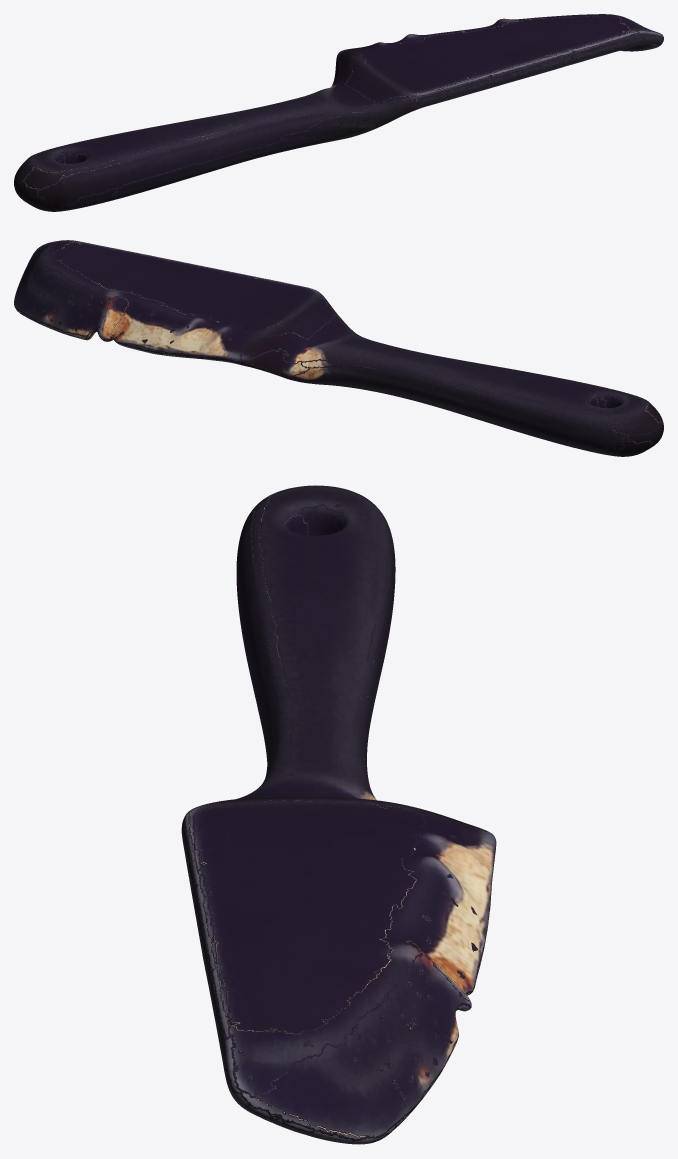
3 views of the same model, one above another, from view 1: azimuth 30°, elevation 25°; view 2: azimuth 150°, elevation 25°; view 3: azimuth 270°, elevation 25° (orthographic). The views are drawn at different scales.
Size of the model in its own units: 1.99 by 0.1637 by 0.4306.
1 material, 1 textured.
